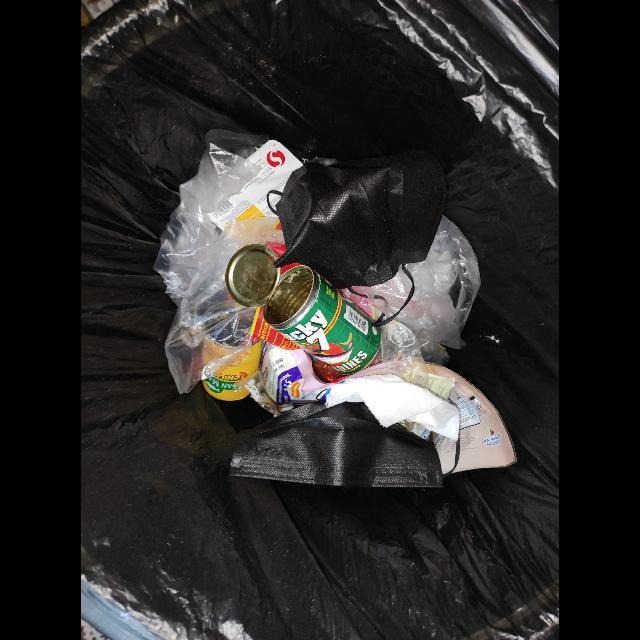aluminum: (225, 244, 382, 376), (230, 400, 446, 490), (201, 338, 263, 402)
food_wrapper: (210, 140, 303, 230)
paper: (325, 374, 460, 441)
plastic_bag: (249, 306, 517, 476), (153, 144, 286, 395), (355, 216, 482, 353)
